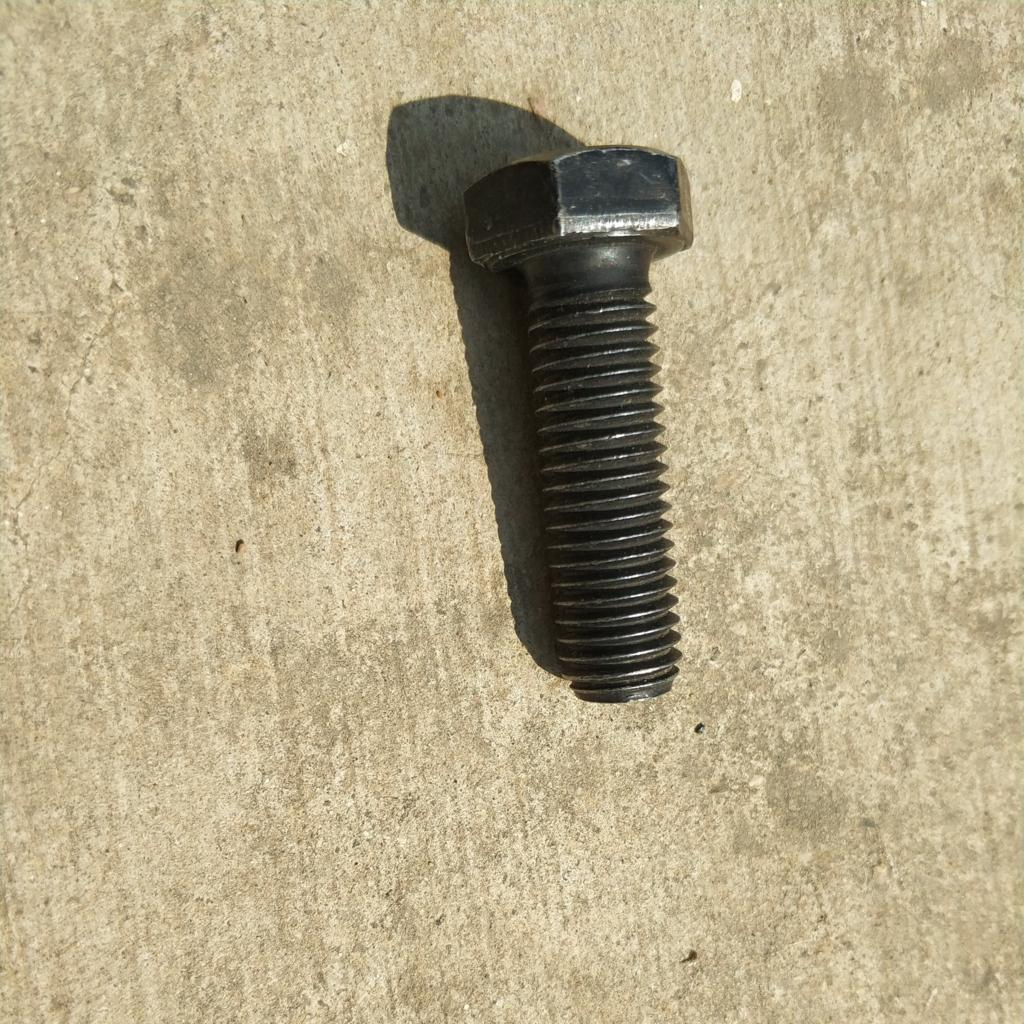screwtype2black: (454, 138, 711, 717)
